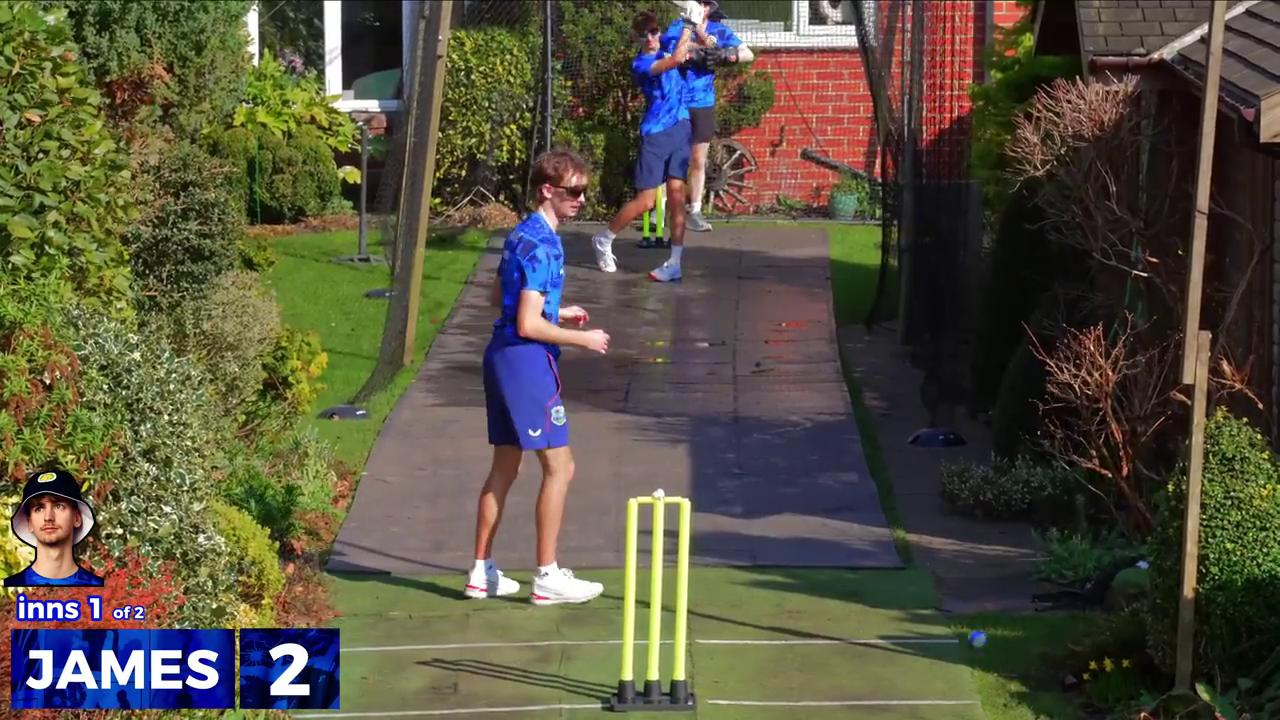ball: (960, 619, 1000, 659)
